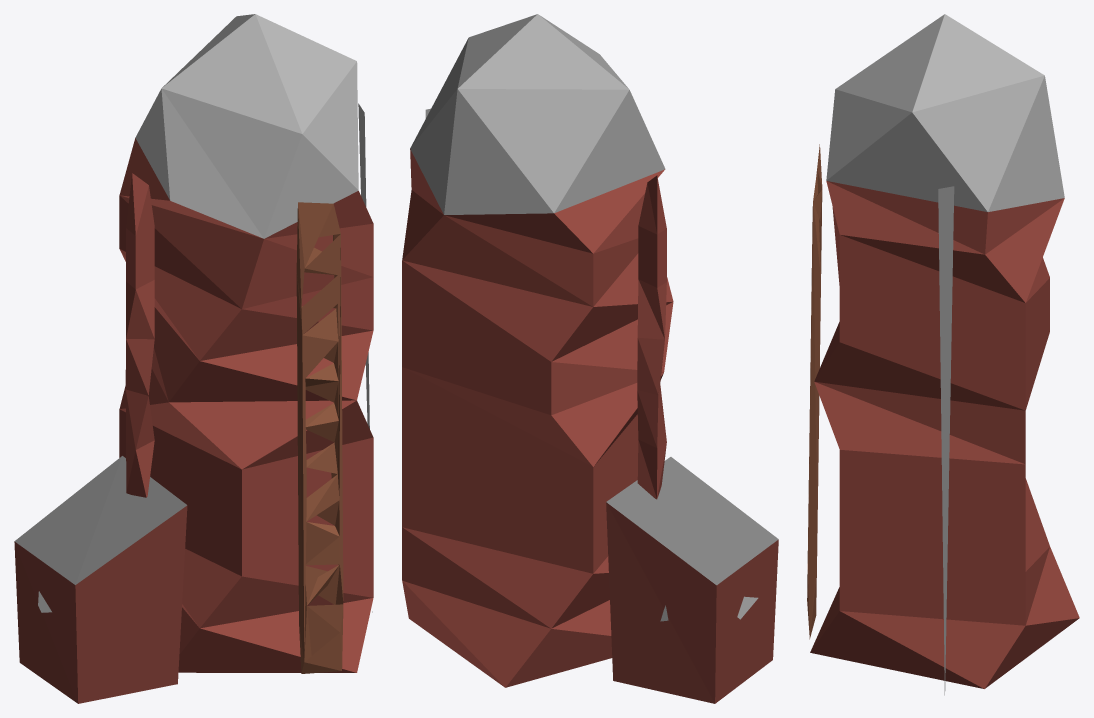
File: Silo_House.lod3.glb
3 renders of one model, left to right at view 1: azimuth 30°, elevation 25°; view 2: azimuth 150°, elevation 25°; view 3: azimuth 270°, elevation 25°, orthographic.
Parts seen in each view (by area): view 1: Silo_House; view 2: Silo_House; view 3: Silo_House.
Boxes of the visible parts, box(x1,y1,x2,y2) form: Silo_House: box(14, 14, 373, 703); Silo_House: box(402, 14, 778, 703); Silo_House: box(807, 14, 1079, 695).
Size of the model in its own units: 5.11 by 9.31 by 3.64.
